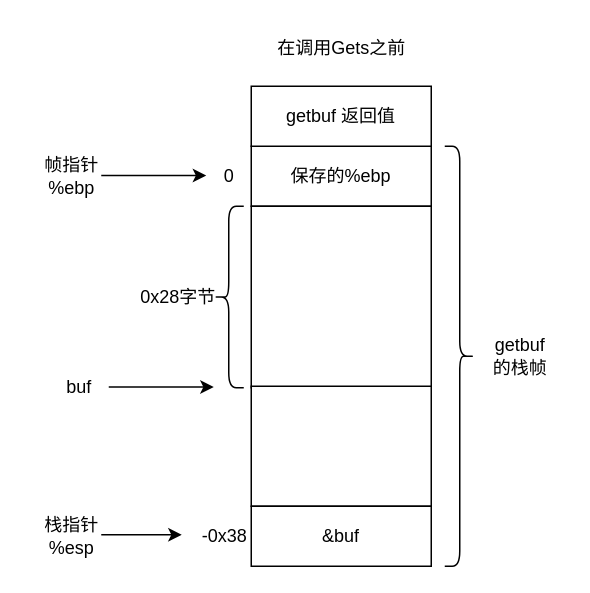
This 590x593 diagram has some shape labels left out. The shapes that lost their labels are listed below. From the top down, each one's centre as x and y in pixels, then its label:
At (340,296): "传给 Gets 的 buf".
At (340,445): "未使用的".
